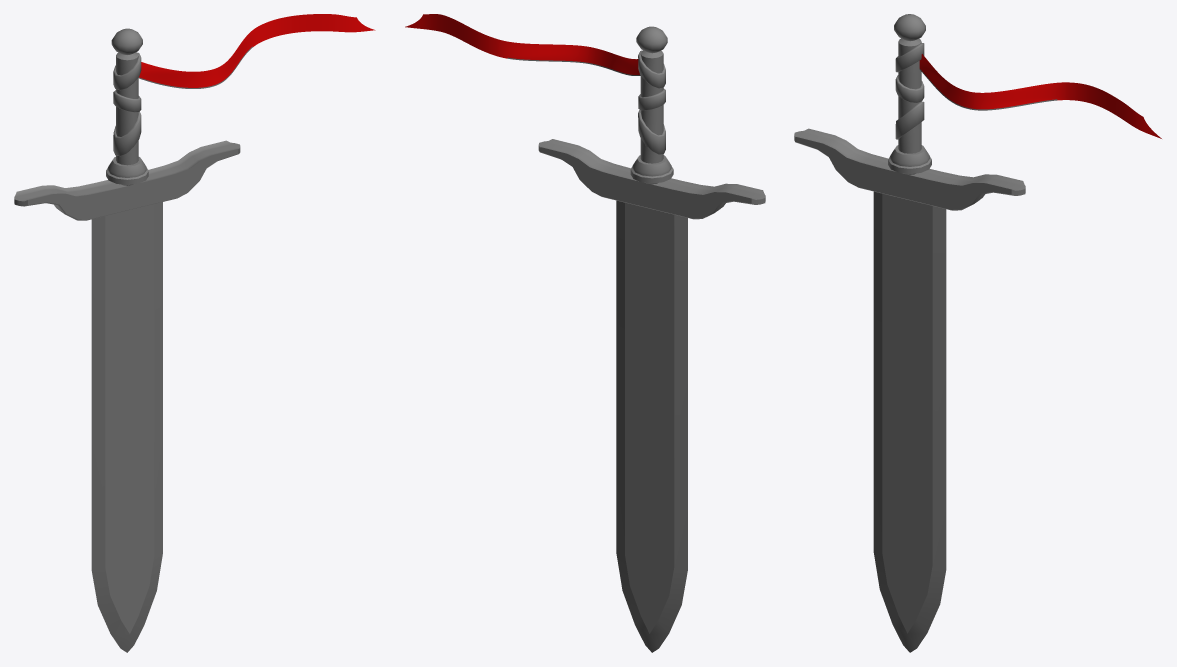
File: SM_SwordGrave.fbx
3 views of the same model, side by side, from view 1: azimuth 30°, elevation 25°; view 2: azimuth 150°, elevation 25°; view 3: azimuth 330°, elevation 25° (orthographic). The views are drawn at different scales.
Parts seen in each view (by area): view 1: Box003; view 2: Box003; view 3: Box003.
Part boxes in pixels (<box>): Box003: <box>14,14,375,652</box>; Box003: <box>405,14,765,652</box>; Box003: <box>794,14,1161,652</box>.
Bounding box in the file's own units: 90.35 × 149 × 10.7.
